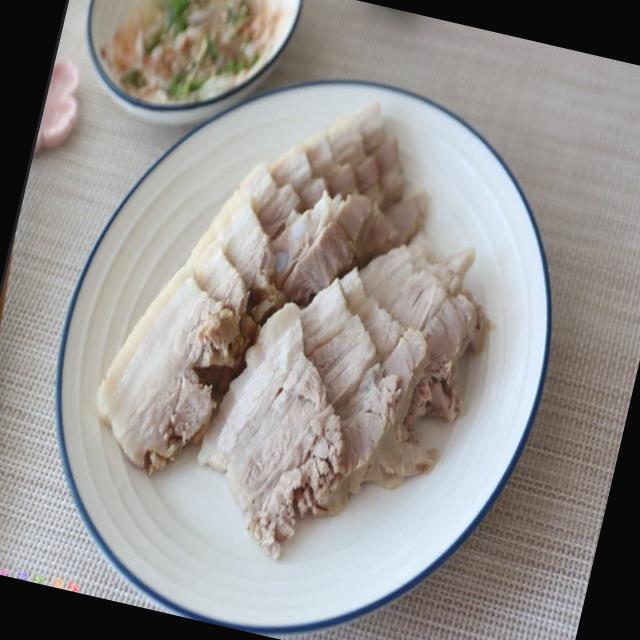thit luoc: (97, 105, 426, 471), (199, 246, 486, 557)
